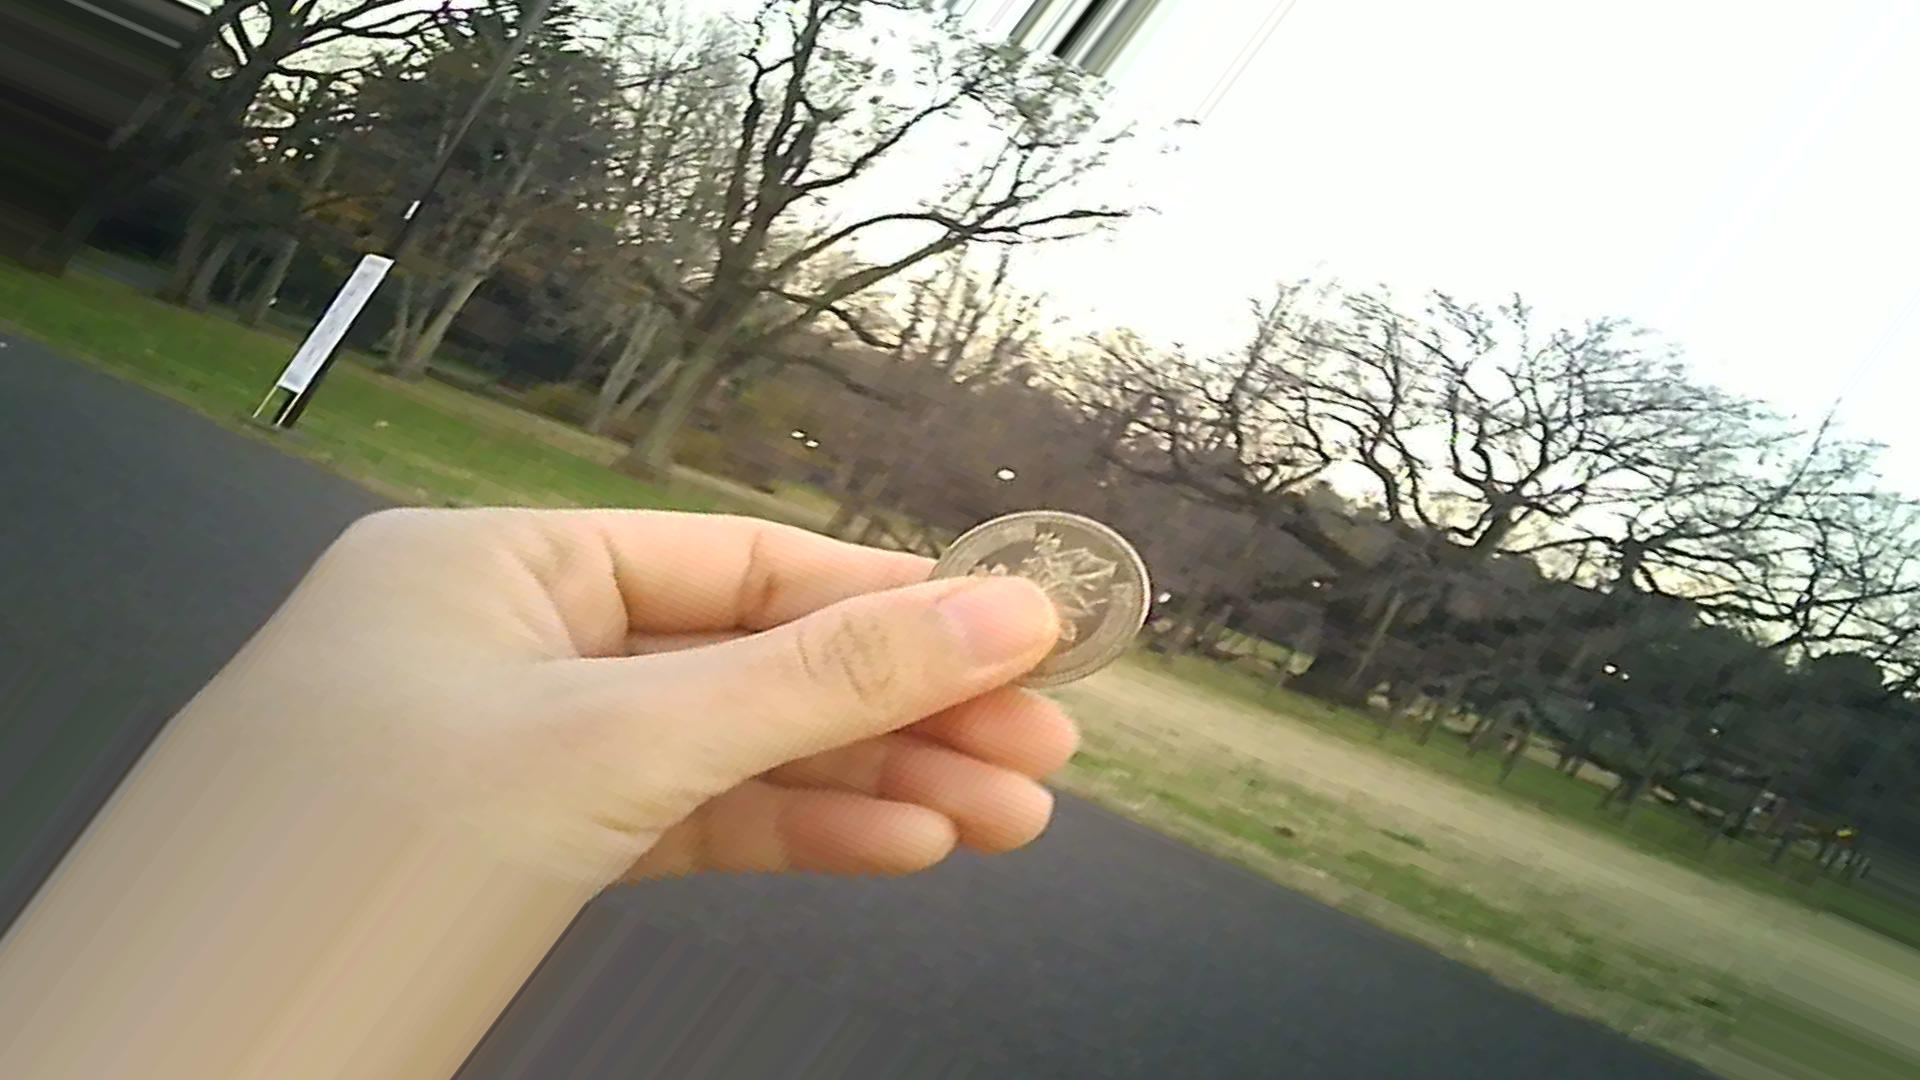500 Yen: (909, 502, 1155, 690)
